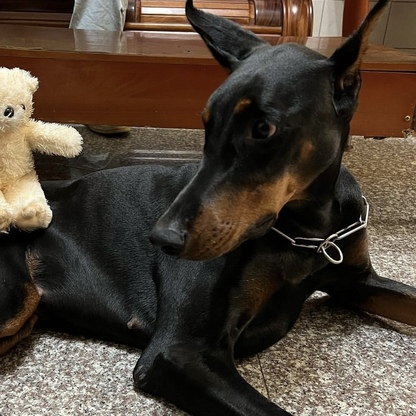doberman: (168, 1, 416, 410)
